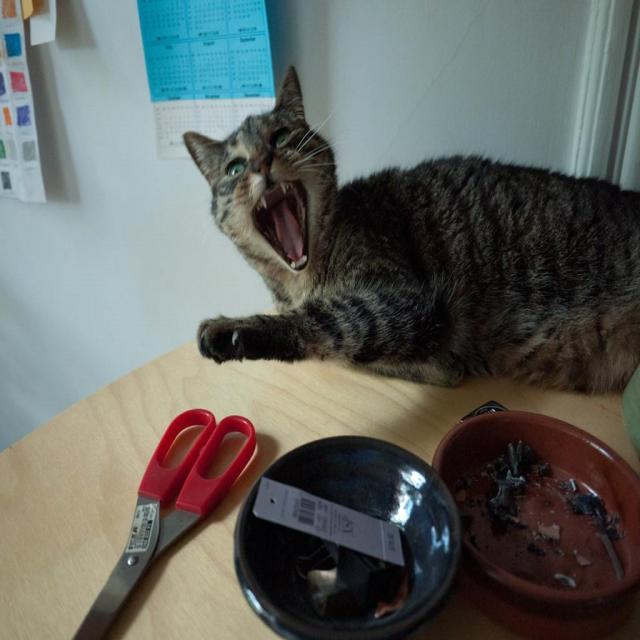scissor: (72, 402, 261, 640)
